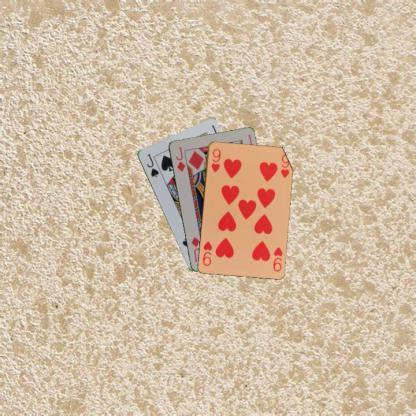9h: (270, 244, 284, 273), (208, 146, 222, 174)
Jd: (172, 144, 186, 173)
Js: (144, 150, 160, 178)
